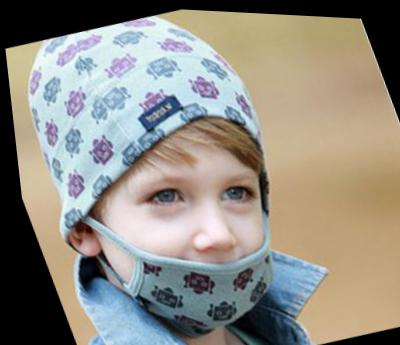WRONG: (84, 138, 305, 345)
